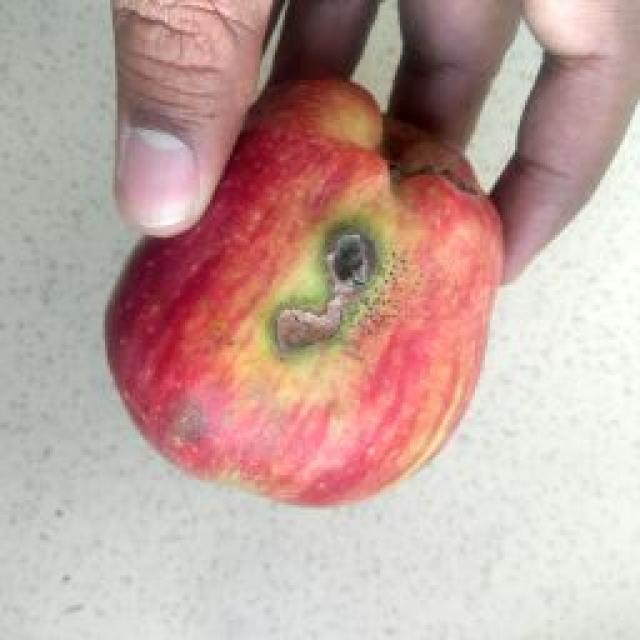Bad_Apple: (106, 80, 502, 503)
